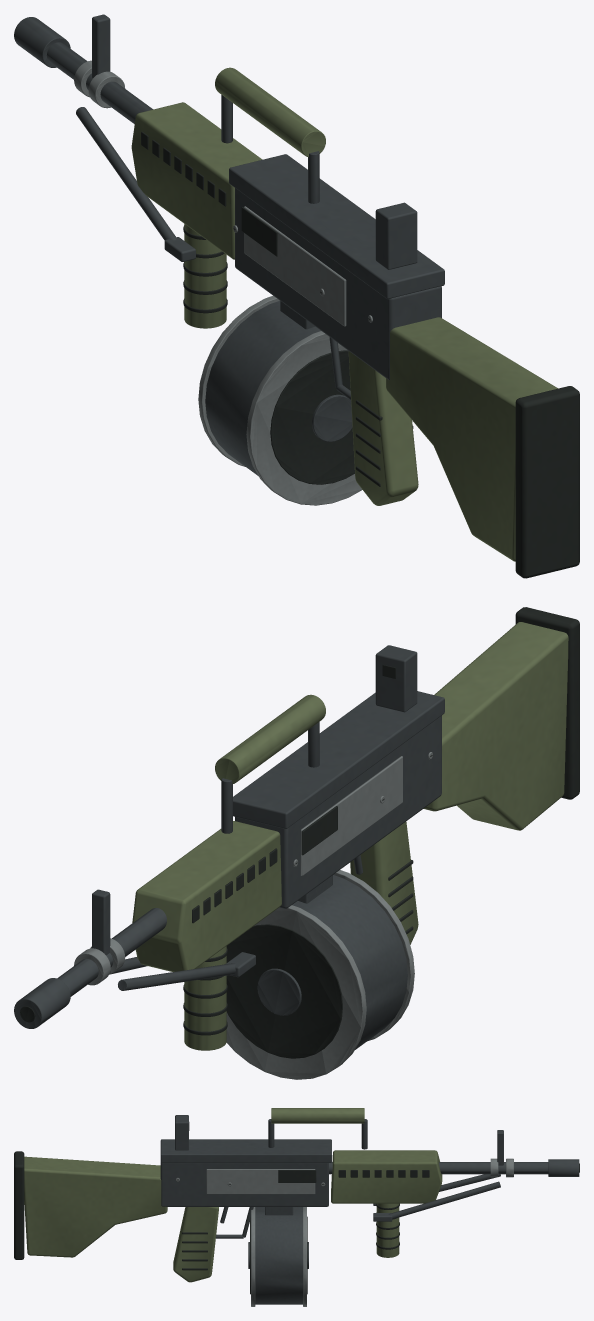
Rendered from ultimax-inspired.glb.
The picture shows the model from 3 angles, top to bottom: view 1: azimuth 30°, elevation 25°; view 2: azimuth 150°, elevation 25°; view 3: azimuth 270°, elevation 25°; orthographic projection. The views are drawn at different scales.
Visible parts, largest first — view 1: ultimax-inspired__body, ultimax-inspired__magazine; view 2: ultimax-inspired__body, ultimax-inspired__magazine; view 3: ultimax-inspired__body, ultimax-inspired__magazine.
Boxes of the visible parts, <box> form: ultimax-inspired__body: <box>14,14,579,578</box>; ultimax-inspired__magazine: <box>198,295,362,505</box>; ultimax-inspired__body: <box>14,607,579,1050</box>; ultimax-inspired__magazine: <box>226,870,414,1079</box>; ultimax-inspired__body: <box>14,1108,579,1282</box>; ultimax-inspired__magazine: <box>248,1207,308,1306</box>.
Bounding box in the file's own units: 0.198 × 0.411 × 1.09.
4 materials, 4 textured.
